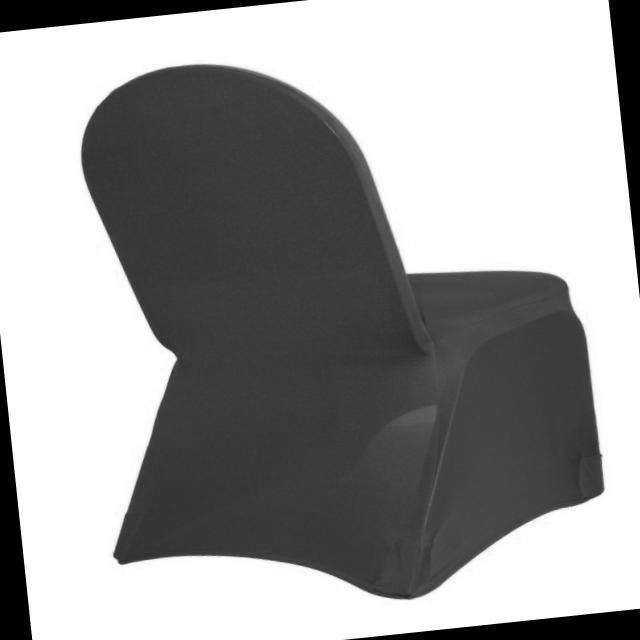chair: (63, 22, 623, 632)
